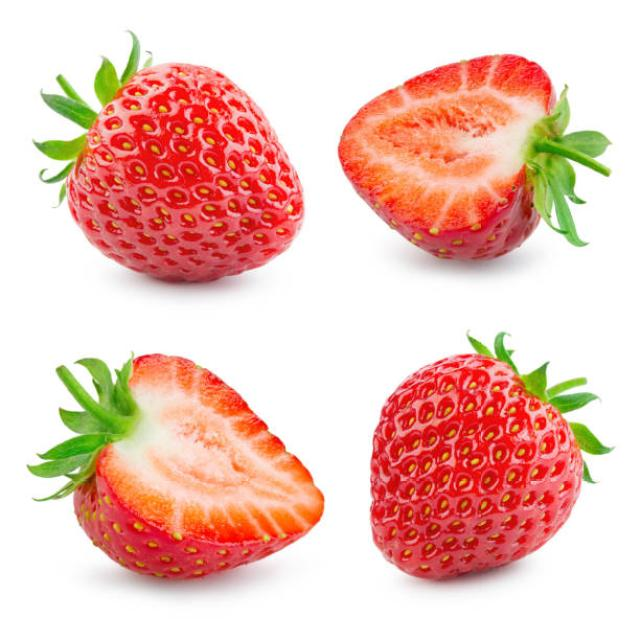Healthy Fruit: (74, 354, 324, 579), (67, 63, 302, 280), (366, 350, 582, 575), (338, 54, 554, 259)
